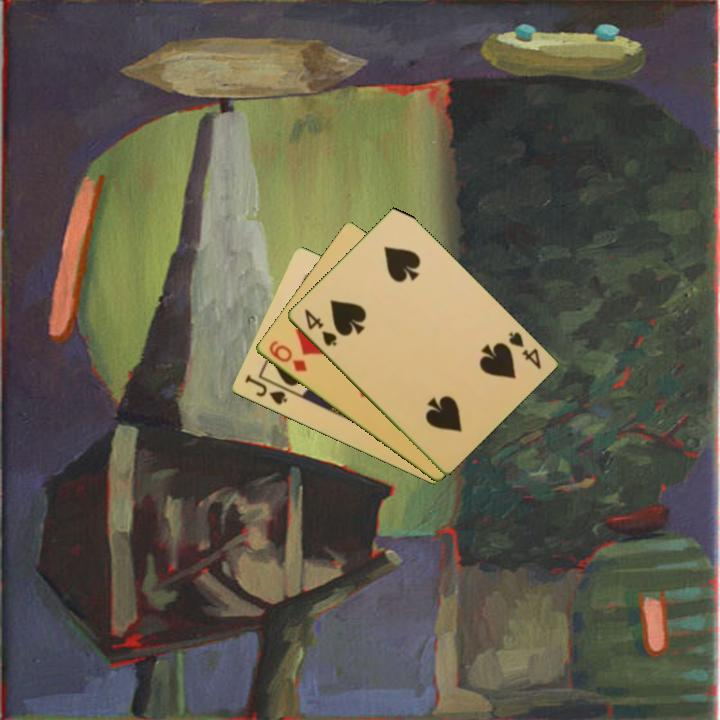4s: (300, 305, 339, 349), (505, 328, 544, 372)
6d: (265, 337, 310, 375)
Js: (241, 372, 290, 408)
